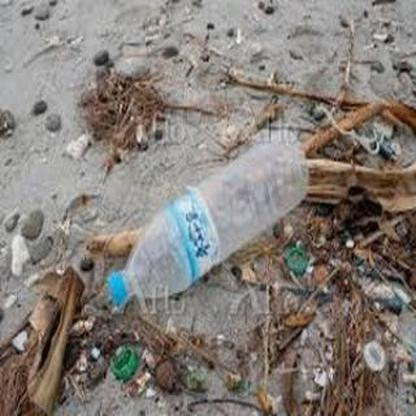plastic bottle: (106, 132, 310, 301)
